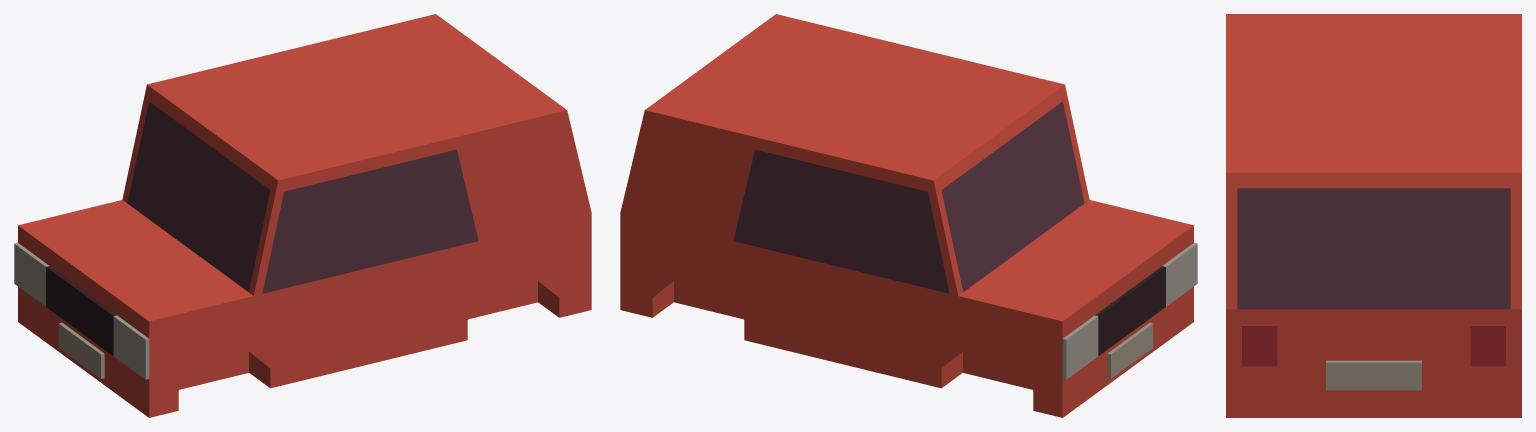
The model's file is Suv_Red.fbx.
3 views of the same model, side by side, from view 1: azimuth 30°, elevation 25°; view 2: azimuth 150°, elevation 25°; view 3: azimuth 270°, elevation 25° (orthographic). The views are drawn at different scales.
Visible parts, largest first — view 1: Suv_Red, Suv_Lights; view 2: Suv_Red, Suv_Lights; view 3: Suv_Red, Suv_Lights.
Boxes of the visible parts, x1,y1,x2,y2 form: Suv_Red: (18, 14, 591, 417); Suv_Lights: (14, 242, 149, 379); Suv_Red: (620, 14, 1193, 417); Suv_Lights: (1062, 242, 1197, 379); Suv_Red: (1226, 14, 1521, 417); Suv_Lights: (1242, 324, 1505, 366).
Bounding box in the file's own units: 3.66 × 1.6 × 1.85.
